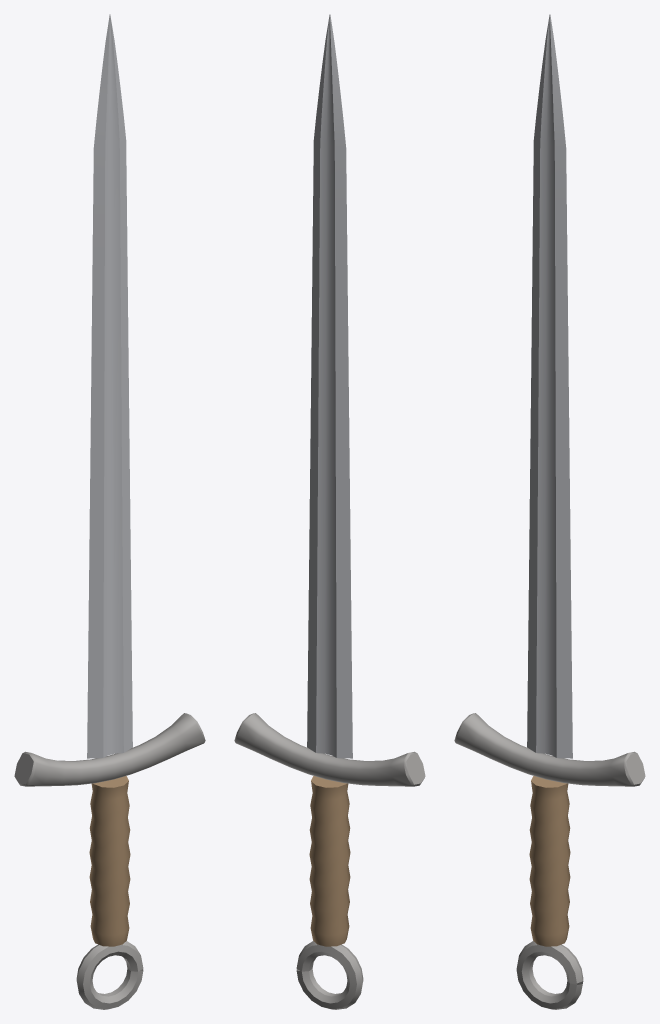
Rendered from wayfarer_blade.glb.
The picture shows the model from 3 angles, left to right: view 1: azimuth 30°, elevation 25°; view 2: azimuth 150°, elevation 25°; view 3: azimuth 330°, elevation 25°; orthographic projection.
Parts seen in each view (by area): view 1: wayfarer_blade; view 2: wayfarer_blade; view 3: wayfarer_blade.
Part boxes in pixels (bbox=[...]): wayfarer_blade: bbox=[14, 14, 205, 1009]; wayfarer_blade: bbox=[234, 14, 425, 1009]; wayfarer_blade: bbox=[454, 14, 645, 1009].
Bounding box in the file's own units: 0.1907 × 0.996 × 0.0356.
